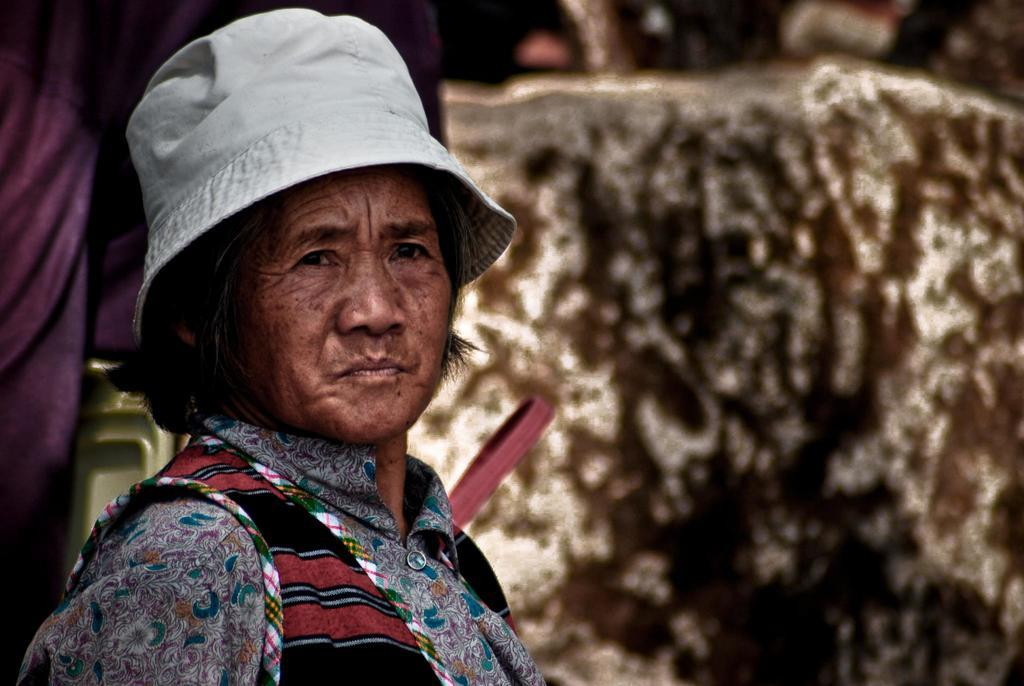Hat: (128, 4, 518, 438)
